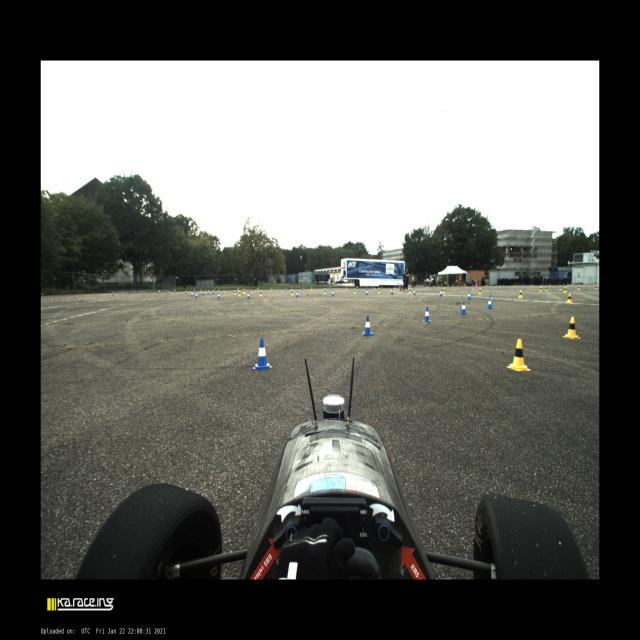blue_cone: (252, 338, 272, 371), (362, 315, 373, 336), (422, 307, 432, 323), (460, 301, 467, 314), (486, 298, 493, 309), (466, 291, 472, 300), (439, 290, 443, 296), (413, 288, 416, 295), (247, 292, 250, 299), (195, 292, 198, 298), (202, 290, 205, 296), (391, 289, 394, 294), (218, 292, 220, 299), (366, 289, 368, 295), (332, 290, 334, 296), (296, 291, 298, 297), (191, 291, 193, 297), (212, 290, 214, 294), (208, 290, 210, 294), (158, 290, 160, 294), (167, 290, 169, 294), (174, 289, 176, 293), (185, 290, 187, 294), (214, 288, 216, 292), (193, 289, 195, 292), (303, 287, 305, 290), (380, 286, 382, 289), (522, 284, 524, 287), (585, 283, 587, 286), (272, 287, 273, 291), (285, 288, 287, 290), (330, 286, 331, 290), (541, 284, 543, 286), (237, 288, 238, 291), (432, 285, 433, 288), (448, 285, 449, 288), (257, 288, 258, 290), (357, 287, 358, 289), (487, 285, 488, 287), (503, 284, 504, 286), (473, 285, 474, 287)
large_orange_cone: (463, 283, 465, 287), (476, 284, 477, 288)
yellow_cone: (507, 339, 531, 371), (562, 317, 580, 339), (566, 294, 572, 303), (518, 290, 523, 298), (478, 287, 482, 295), (563, 286, 567, 293), (442, 287, 446, 294), (408, 288, 412, 294), (539, 286, 542, 292), (238, 290, 241, 296), (545, 286, 548, 291), (291, 290, 294, 295), (243, 289, 246, 294), (595, 284, 597, 290), (578, 284, 580, 290), (559, 286, 562, 290), (354, 288, 356, 294), (260, 290, 262, 296), (251, 288, 253, 294), (234, 289, 236, 295), (204, 289, 207, 293), (378, 288, 380, 293), (324, 289, 326, 294), (224, 289, 226, 293), (270, 288, 272, 291), (374, 286, 376, 289), (394, 286, 396, 289), (452, 285, 454, 288), (499, 284, 501, 287), (187, 289, 188, 293), (190, 289, 191, 293), (218, 288, 219, 292), (311, 287, 312, 291), (346, 286, 347, 290), (514, 285, 516, 287), (201, 289, 202, 292), (419, 285, 420, 288), (438, 285, 439, 288), (532, 284, 533, 287), (588, 283, 589, 286), (466, 285, 467, 288), (485, 285, 486, 287), (549, 284, 550, 286), (567, 284, 568, 286)
